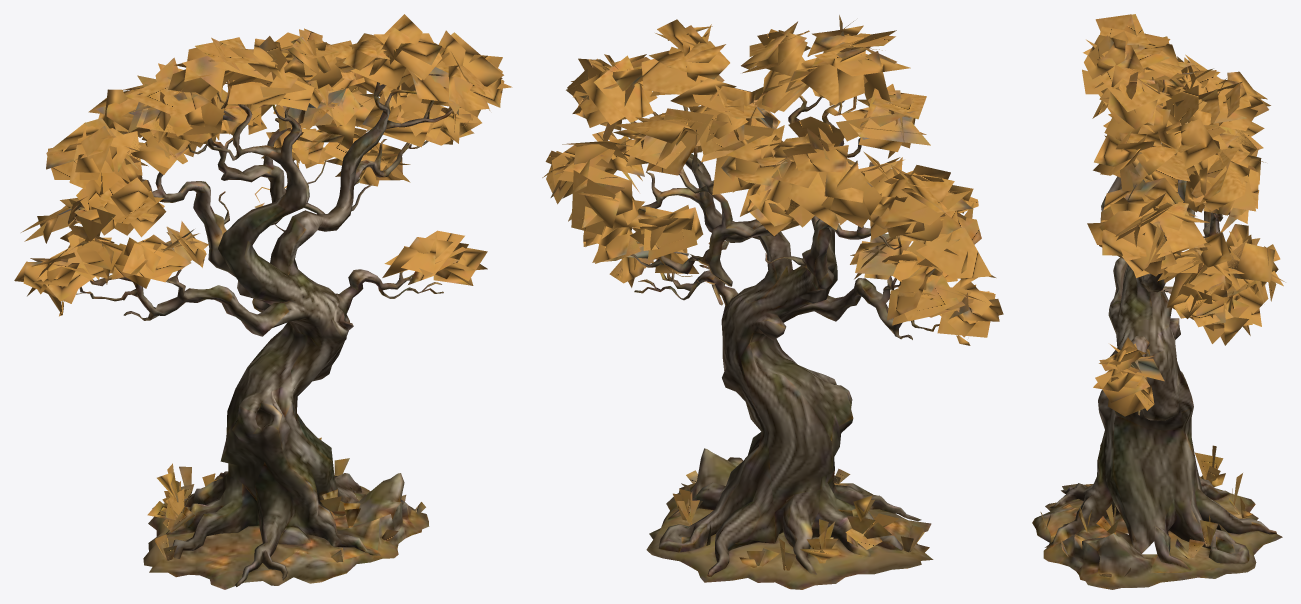
The model's file is tree_golden.glb.
3 views of the same model, side by side, from view 1: azimuth 30°, elevation 25°; view 2: azimuth 150°, elevation 25°; view 3: azimuth 270°, elevation 25° (orthographic). The views are drawn at different scales.
Size of the model in its own units: 0.8936 by 0.9521 by 0.4555.
1 material, 1 textured.
